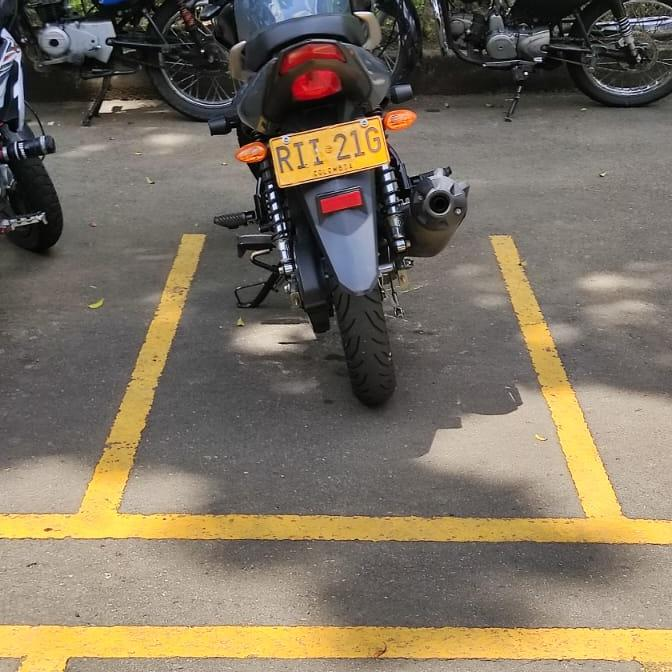plates: (268, 118, 389, 188)
